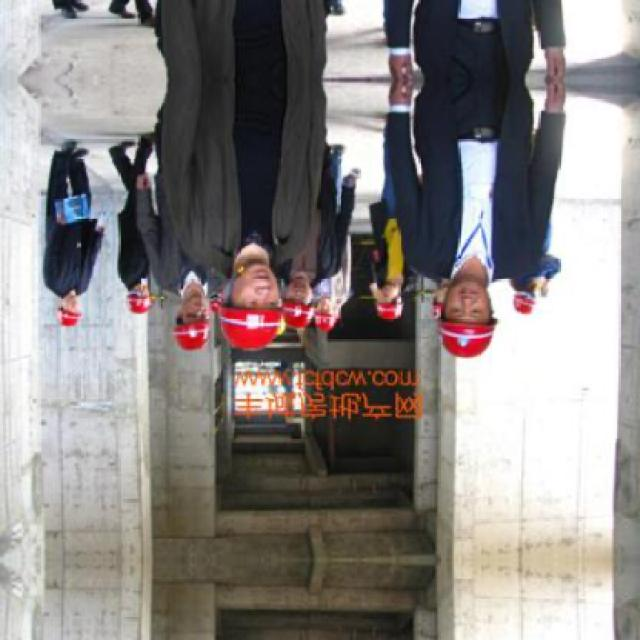con casco: (178, 275, 314, 359), (432, 260, 504, 368), (41, 284, 96, 339)
